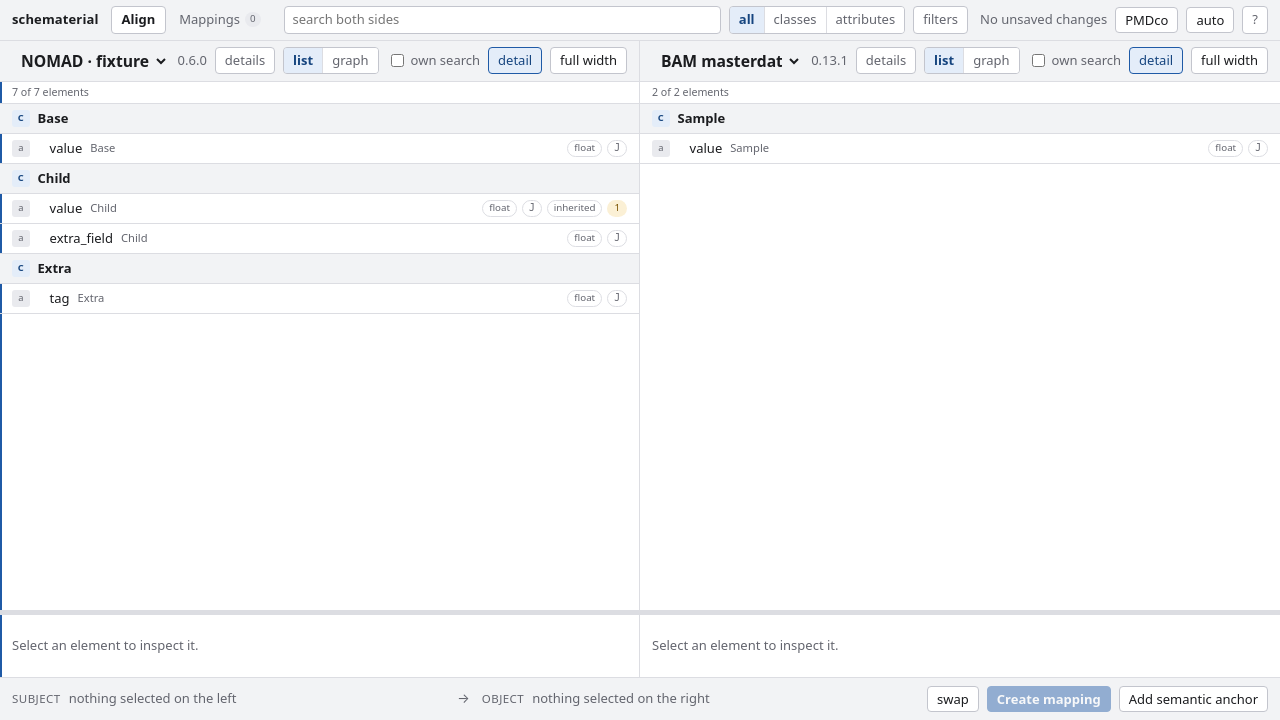
Scenario: choosing what appears on either side › allows the same schema on both sides, marks it, and fetches its index once
This screenshot has width=1280, height=720.
Select "NOMAD · fixture" in the dropdown named "schema on the right" at (728, 60), box 652,46 -> 803,76
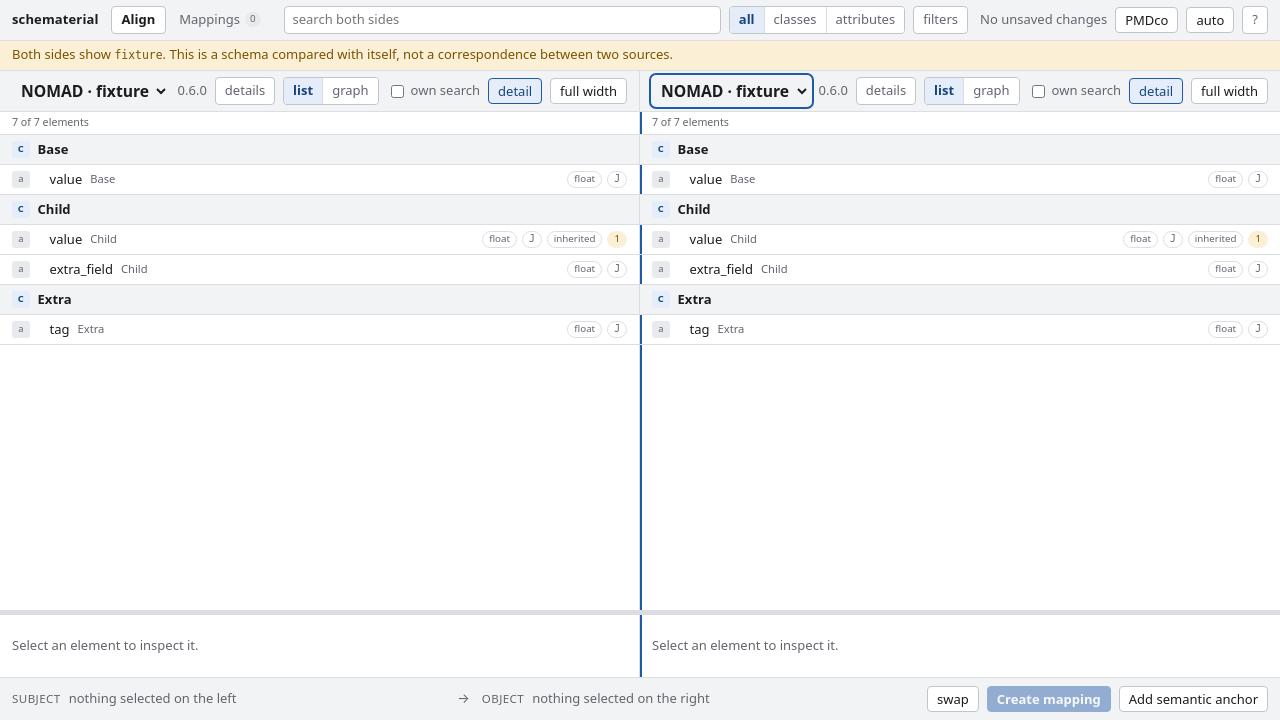
Result: the text "schema compared with itself" is shown at 163,44 -> 673,62
